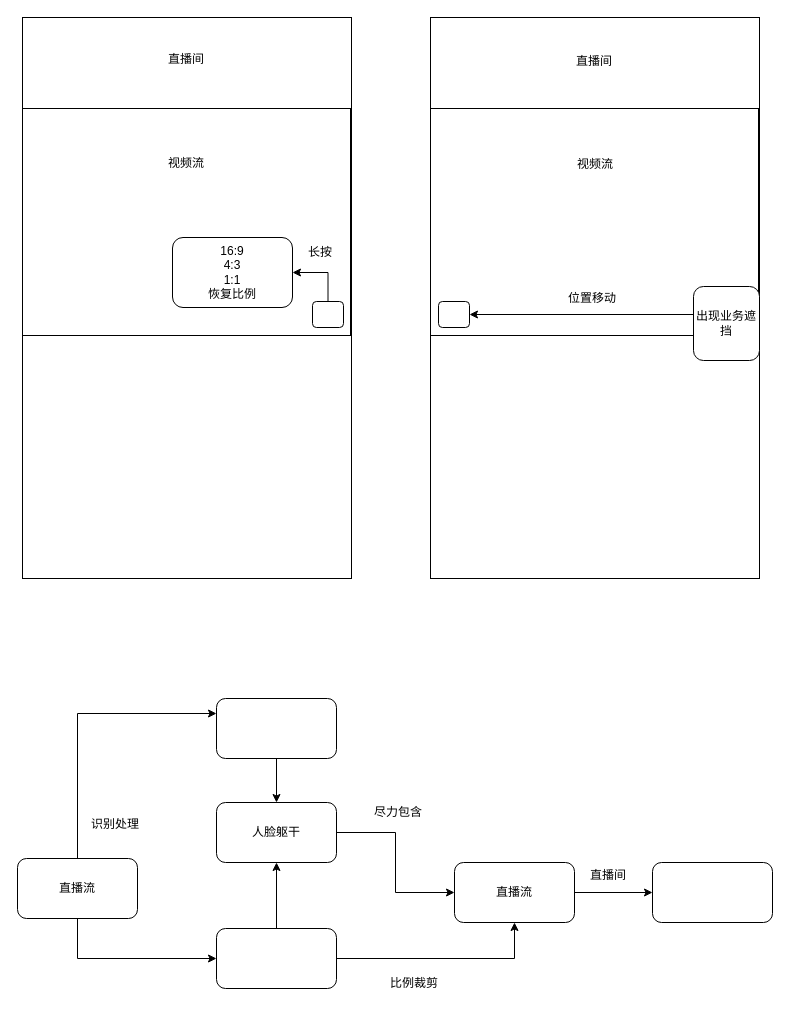
Image size: 790x1016. Some labels were removed from this diagram. Here are the shapes that lost their labels. From the top down, the box of each, then its label:
(216, 698, 336, 758): 识别网络
(652, 862, 772, 922): 播放
(216, 928, 336, 988): 选择比例
